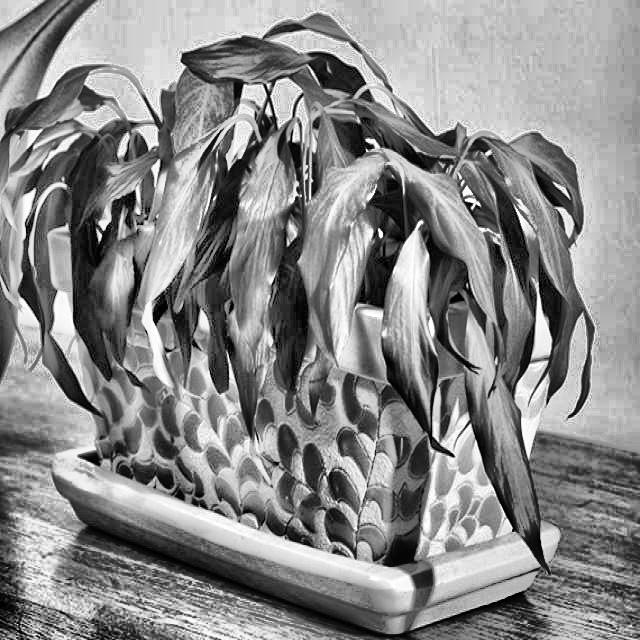plants: (5, 61, 458, 474)
